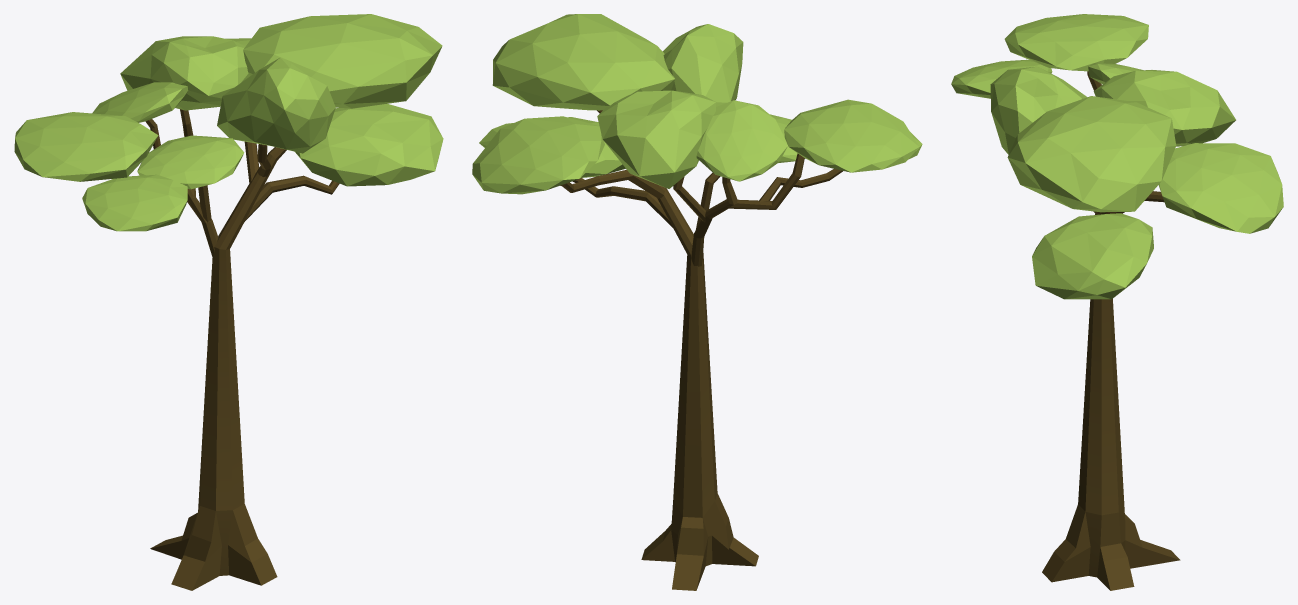
Rendered from SM_RF_AshTree_003.fbx.
3 renders of one model, left to right at view 1: azimuth 30°, elevation 25°; view 2: azimuth 150°, elevation 25°; view 3: azimuth 270°, elevation 25°, orthographic. The views are drawn at different scales.
Parts seen in each view (by area): view 1: SM_RF_AshTree_003; view 2: SM_RF_AshTree_003; view 3: SM_RF_AshTree_003.
Part boxes in pixels (x1,y1,x2,y2): SM_RF_AshTree_003: [14, 14, 443, 590]; SM_RF_AshTree_003: [472, 14, 922, 590]; SM_RF_AshTree_003: [951, 14, 1283, 590].
Size of the model in its own units: 1413 by 1665 by 982.
